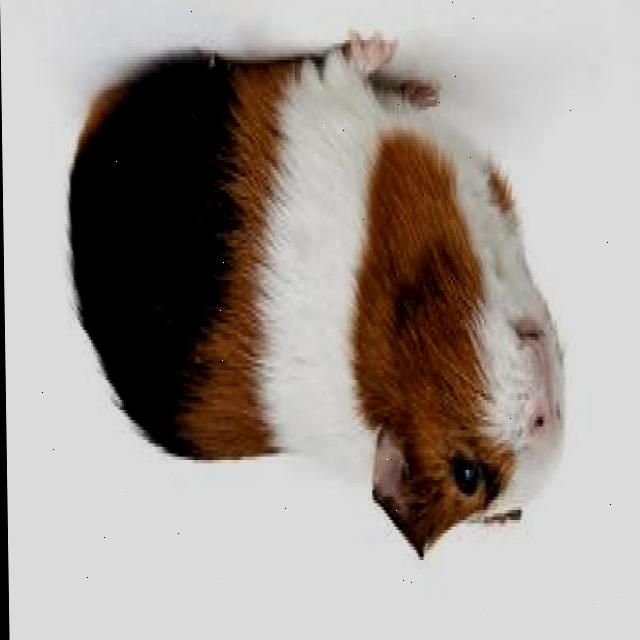guinea pig: (68, 46, 566, 562)
